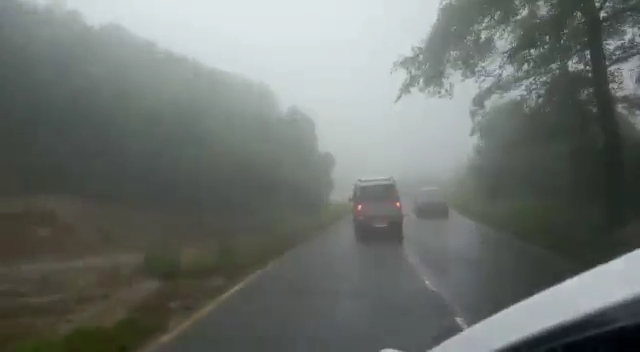car: (352, 181, 404, 239), (348, 176, 399, 215), (412, 186, 449, 217)
